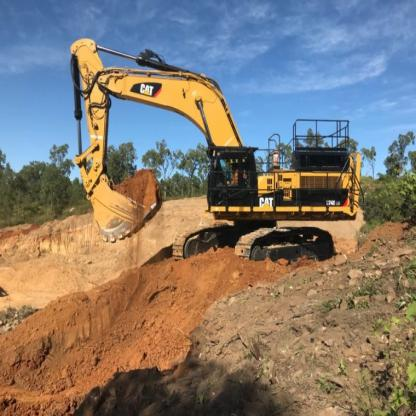excavator: (65, 28, 367, 305)
